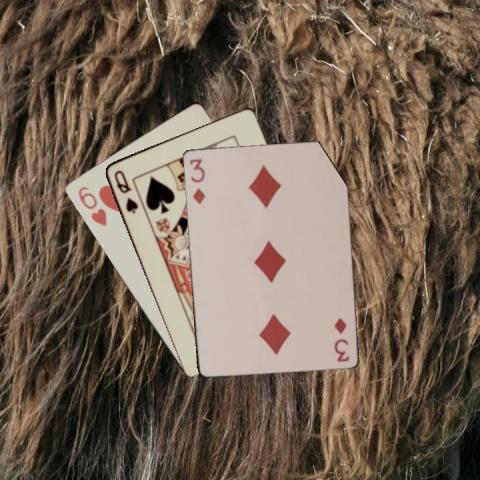3d: (186, 156, 206, 206), (331, 314, 350, 363)
6h: (75, 183, 108, 227)
Qs: (111, 166, 139, 214)
